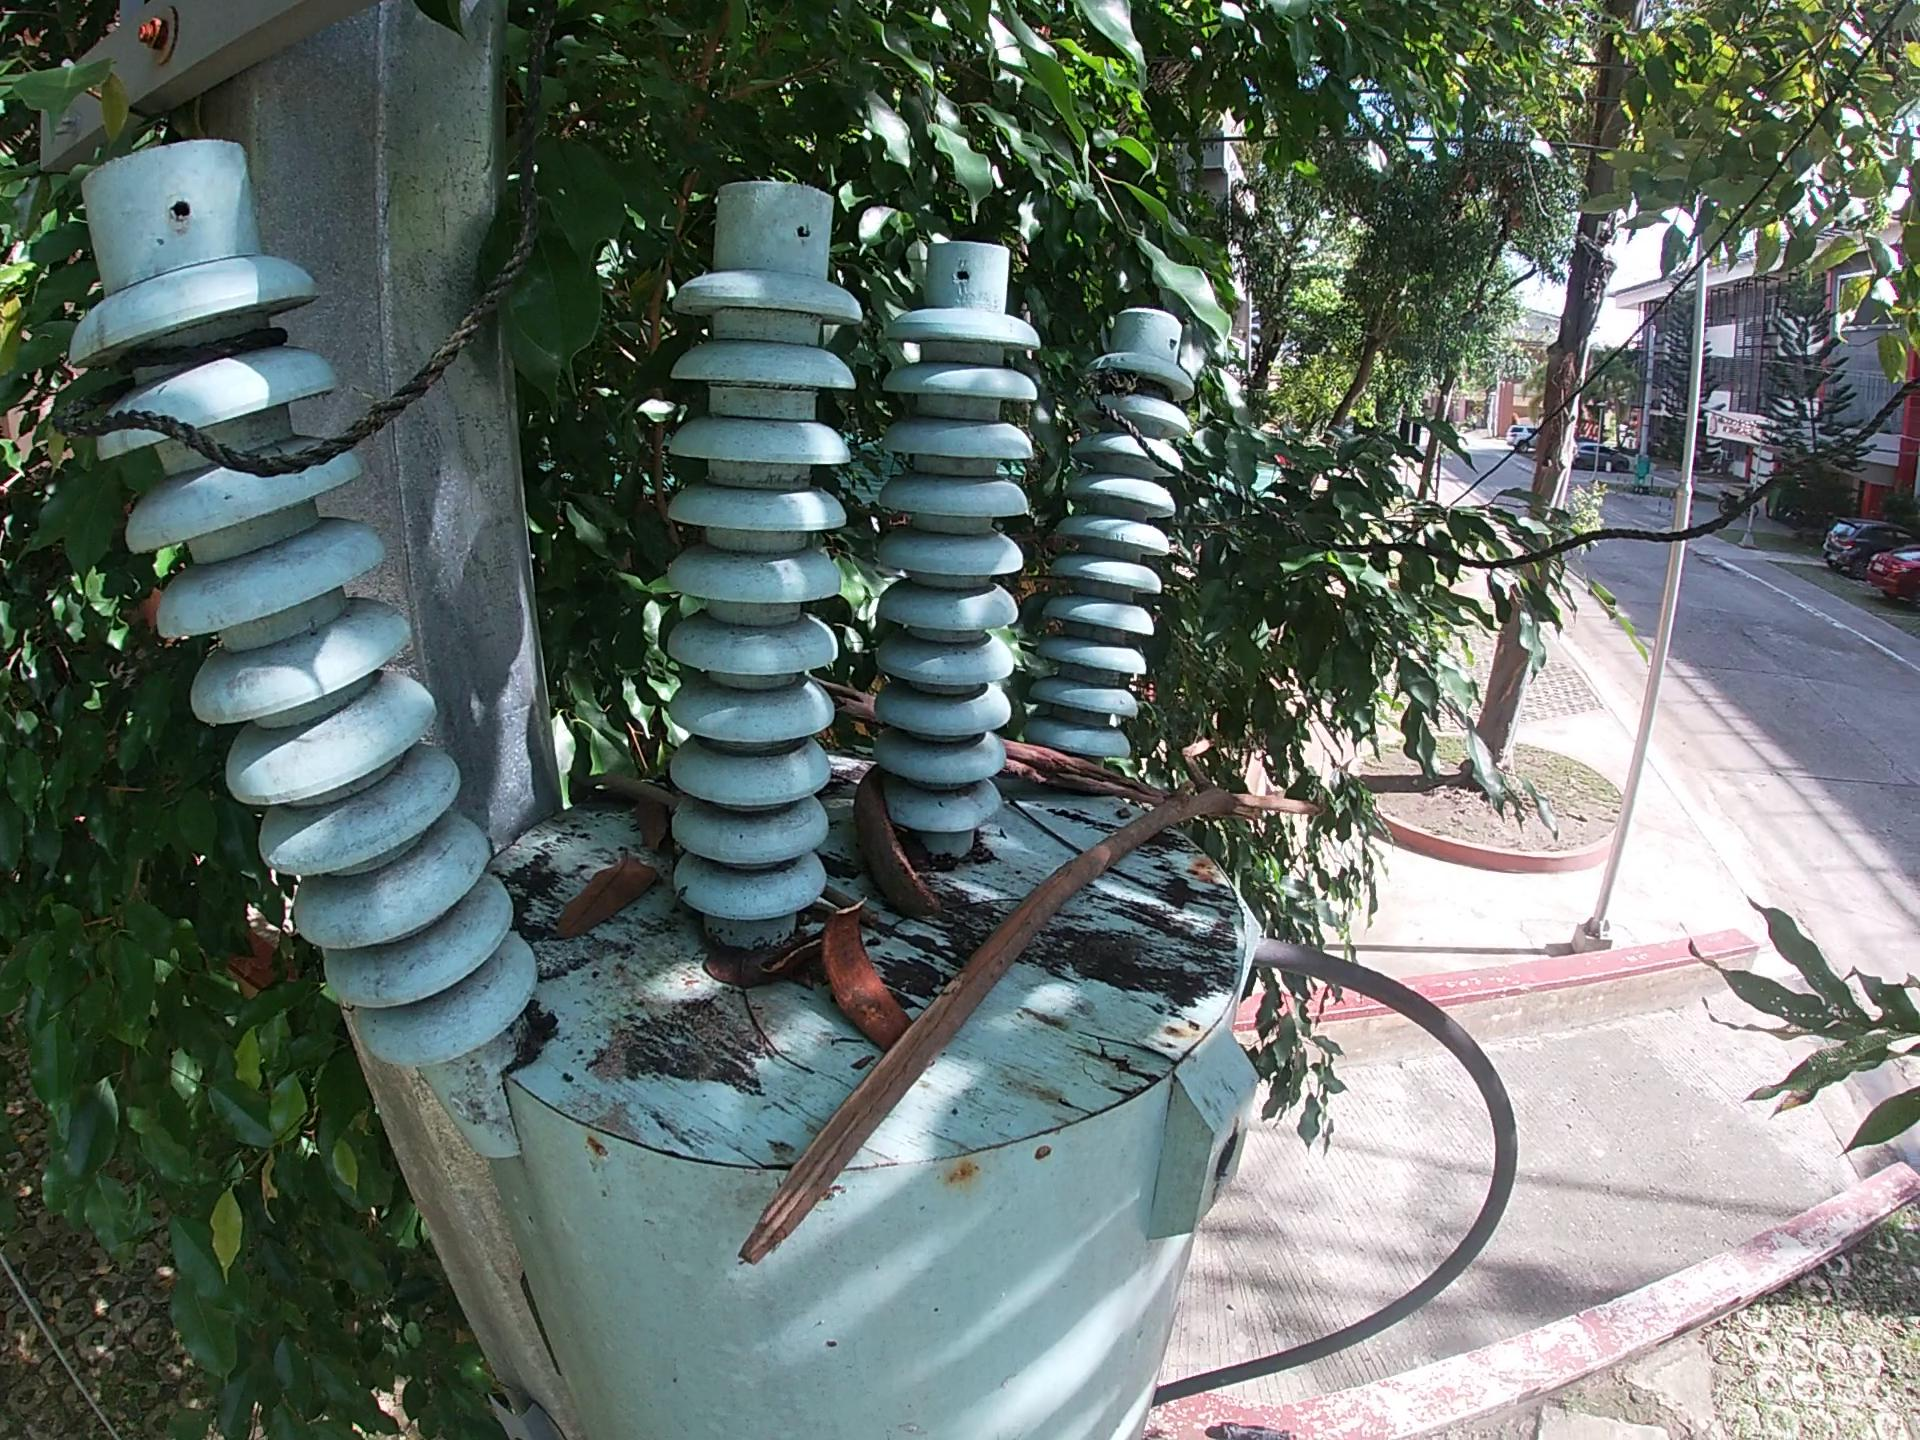leaf: (547, 843, 667, 948), (698, 932, 780, 995), (633, 794, 677, 852)
mahogany fruit: (847, 758, 946, 923), (819, 891, 918, 1056)
tree branch: (733, 729, 1333, 1268), (807, 675, 1175, 808), (556, 768, 679, 809), (822, 883, 890, 926)
